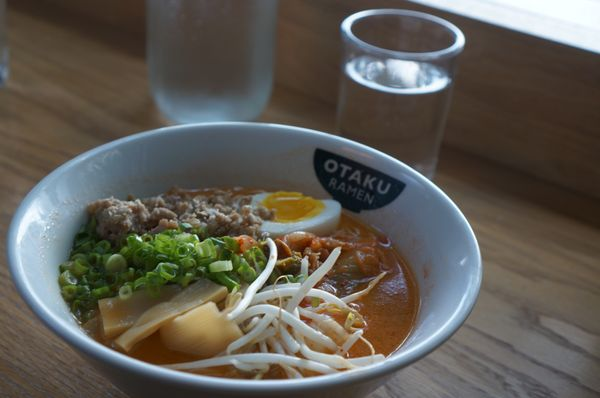pizza: (335, 6, 466, 183), (145, 0, 279, 125), (0, 1, 14, 92)
sushi: (6, 120, 476, 395)
